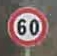limite 60: (5, 5, 48, 47)
